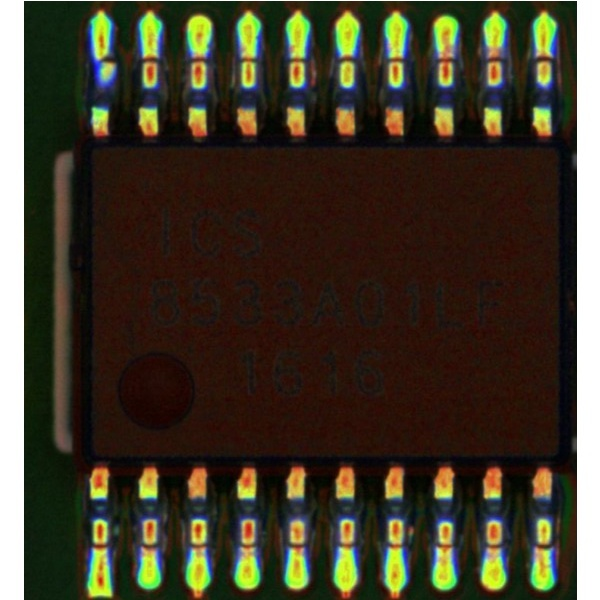Bad_podu: (440, 38, 454, 72), (538, 39, 551, 70), (488, 43, 501, 71), (536, 530, 547, 563), (438, 534, 452, 557), (241, 534, 257, 554), (289, 534, 304, 555), (487, 536, 502, 556), (193, 534, 206, 557), (143, 536, 157, 557)
